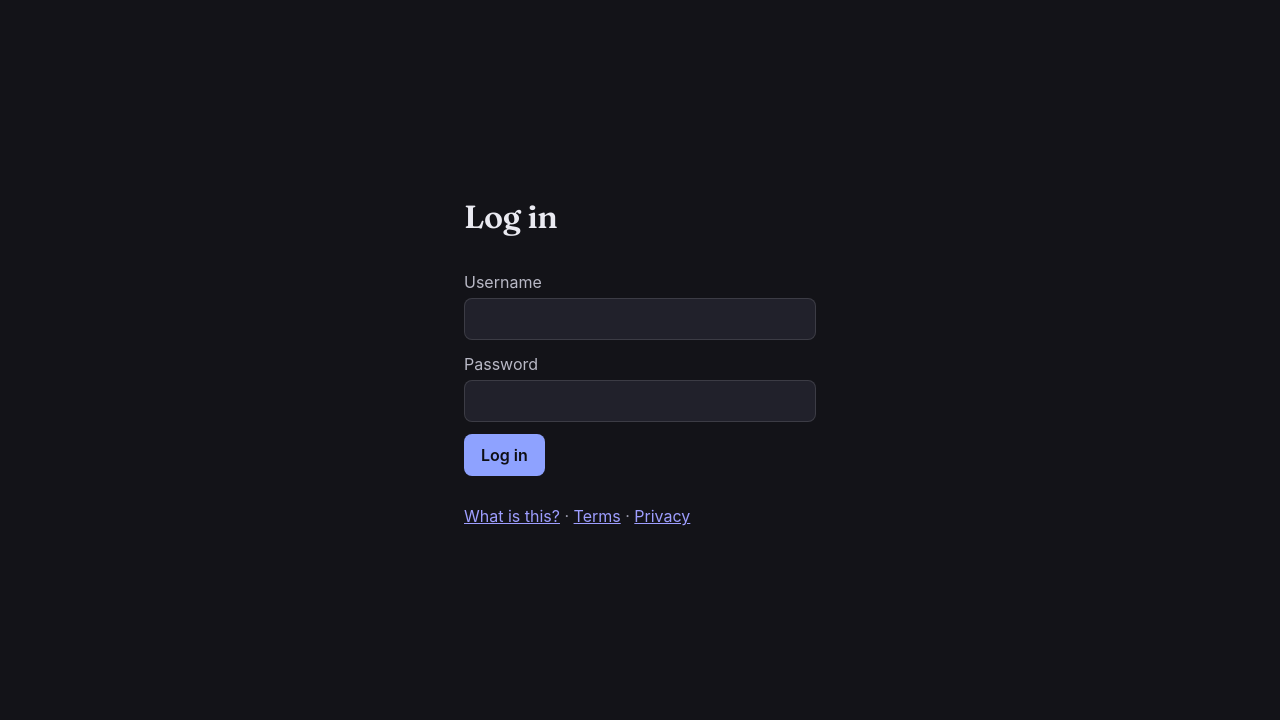
Scenario: app shell + routing › logs in through the form and lands on the picker
The width and height of the screenshot is (1280, 720).
Expected: the heading "Log in" is shown, [464,197,558,237]
Step 1. Type "dm" into the field labelled "Username" → (640, 319), box [464,298,816,340]
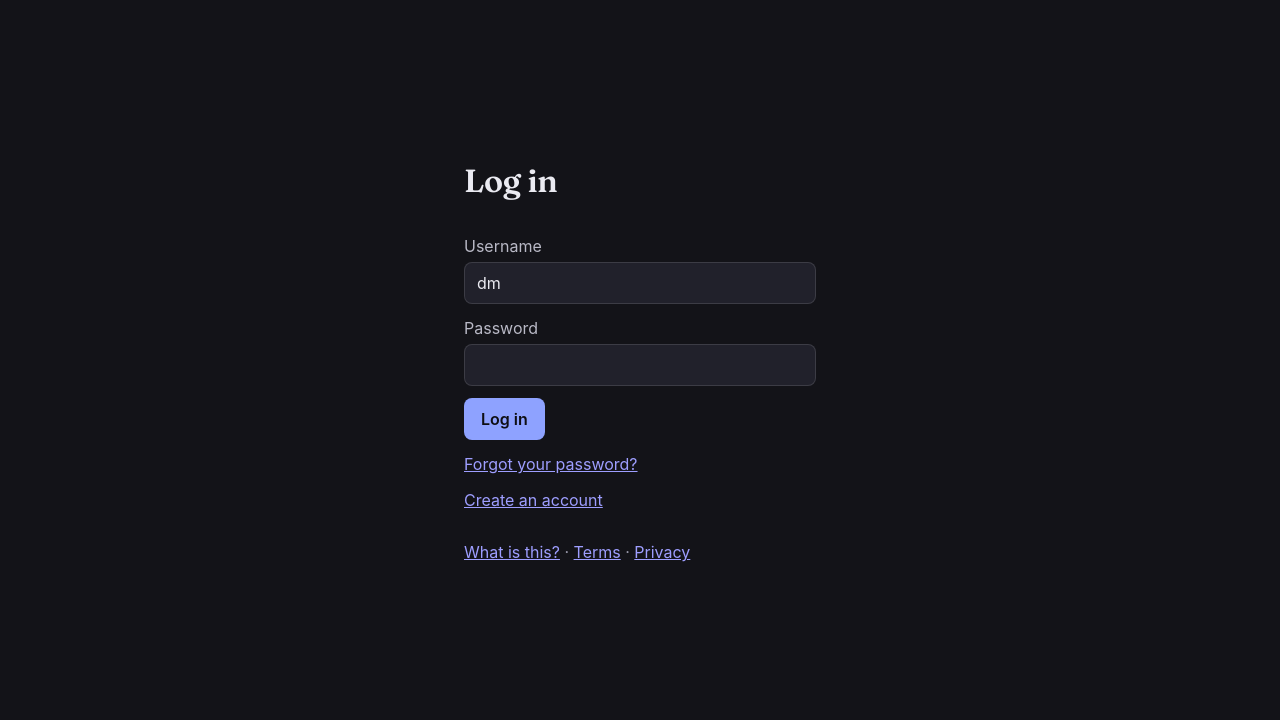
Step 2. Type "pw-123456" into the password field labelled "Password" → (640, 365), box [464,344,816,386]
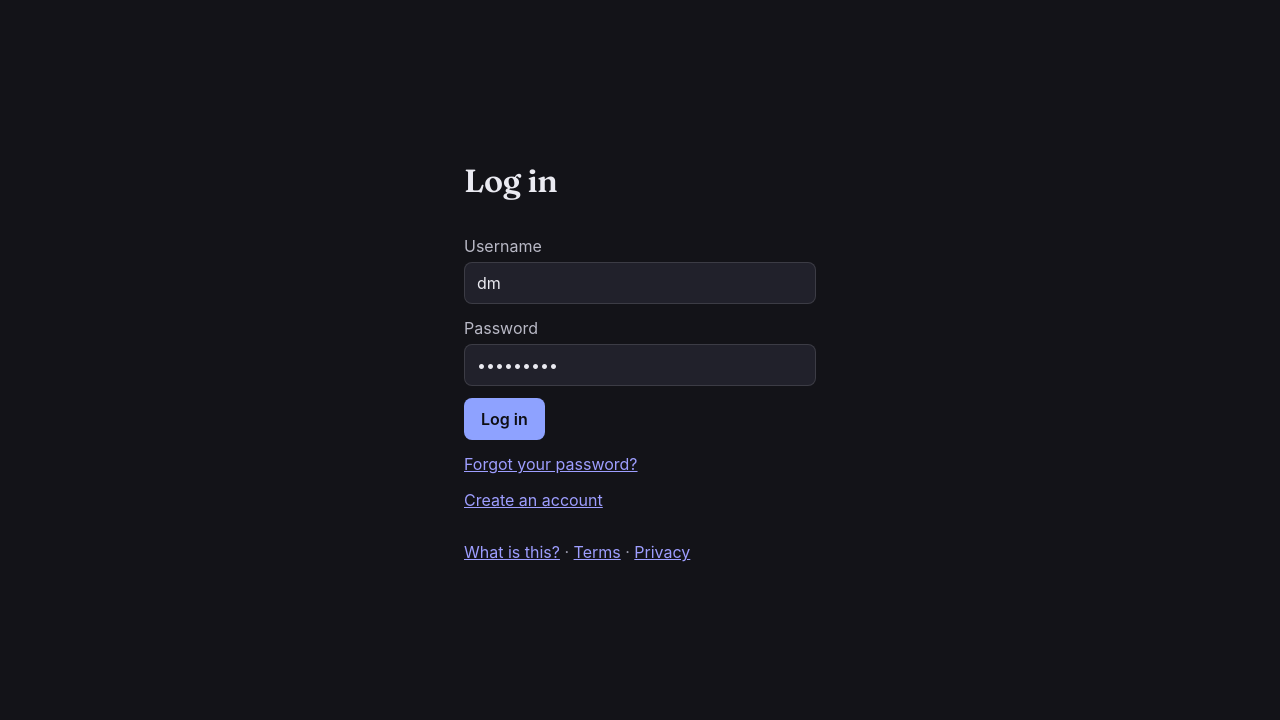
Step 3. Click the button "Log in" → (504, 419), box [464,398,545,440]
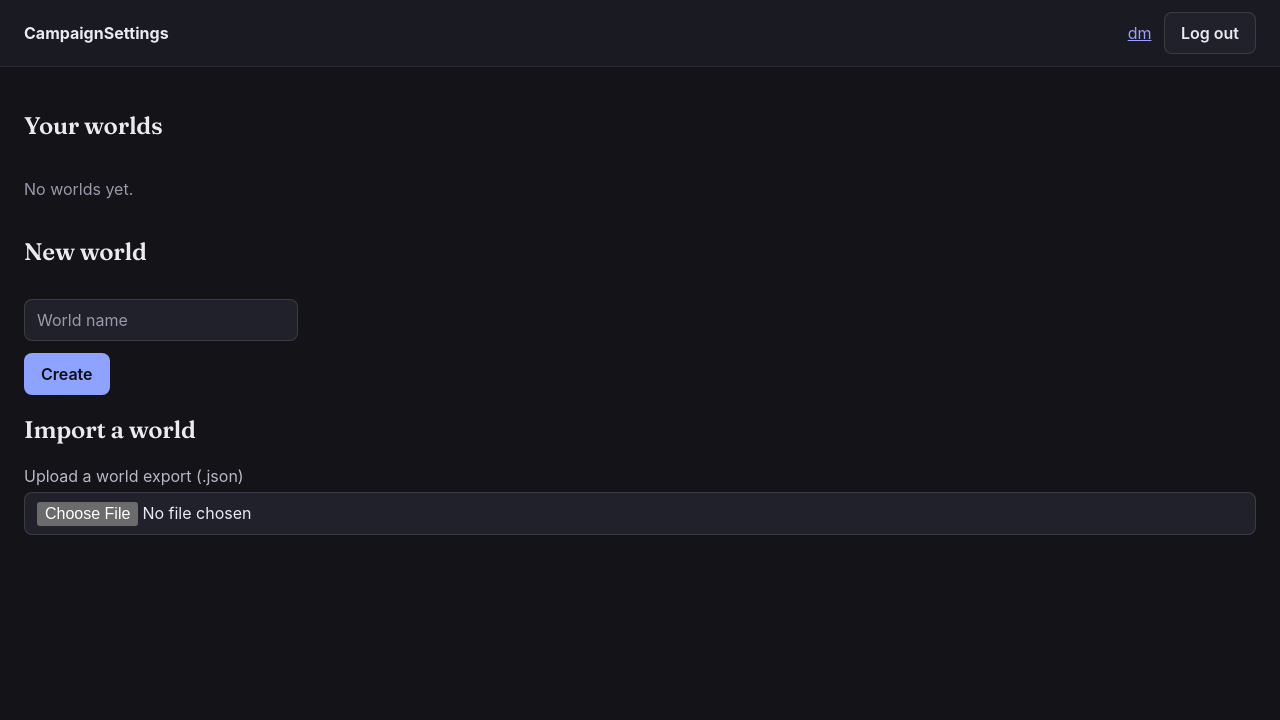
Now the heading "Your worlds" is shown, box [24,111,162,141]
Now the text "No worlds yet." is shown, box [24,179,133,199]
